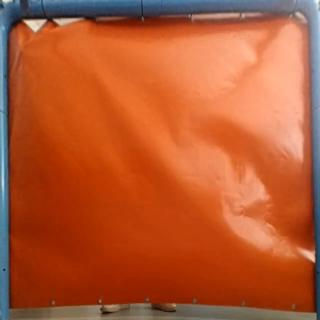Hit-hRxx: (15, 40, 28, 58)
